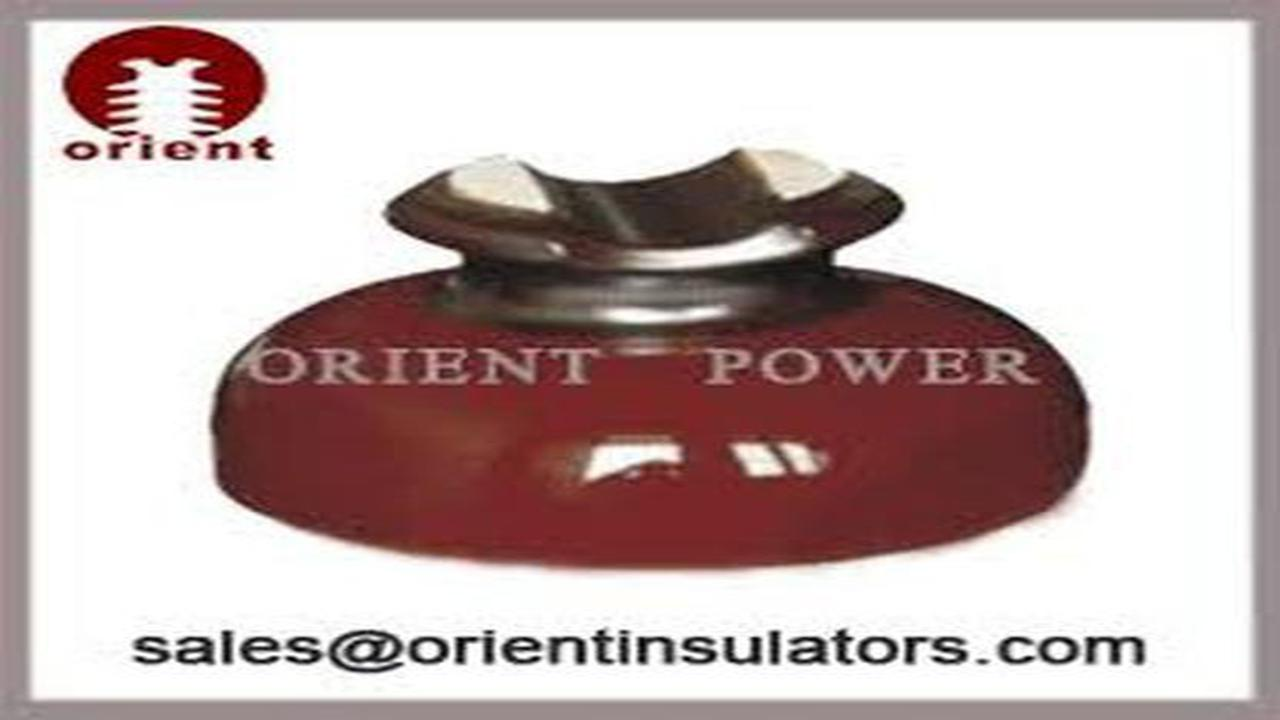insulator_pin: (196, 151, 1108, 586)
